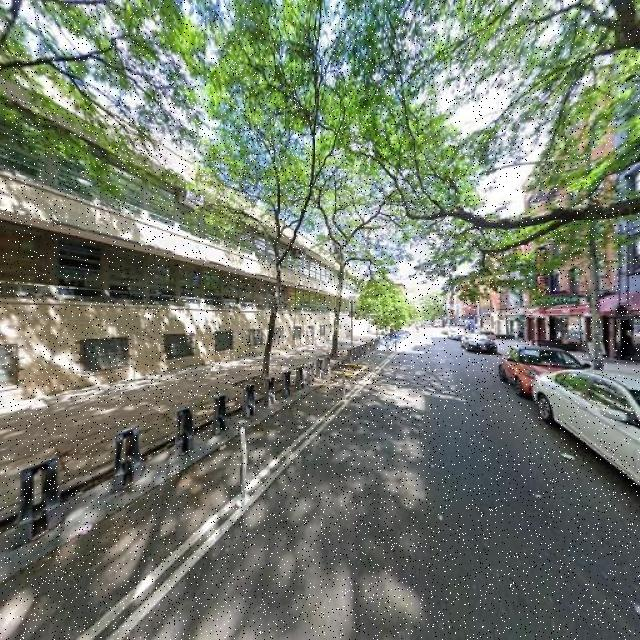Building: (1, 45, 359, 399)
